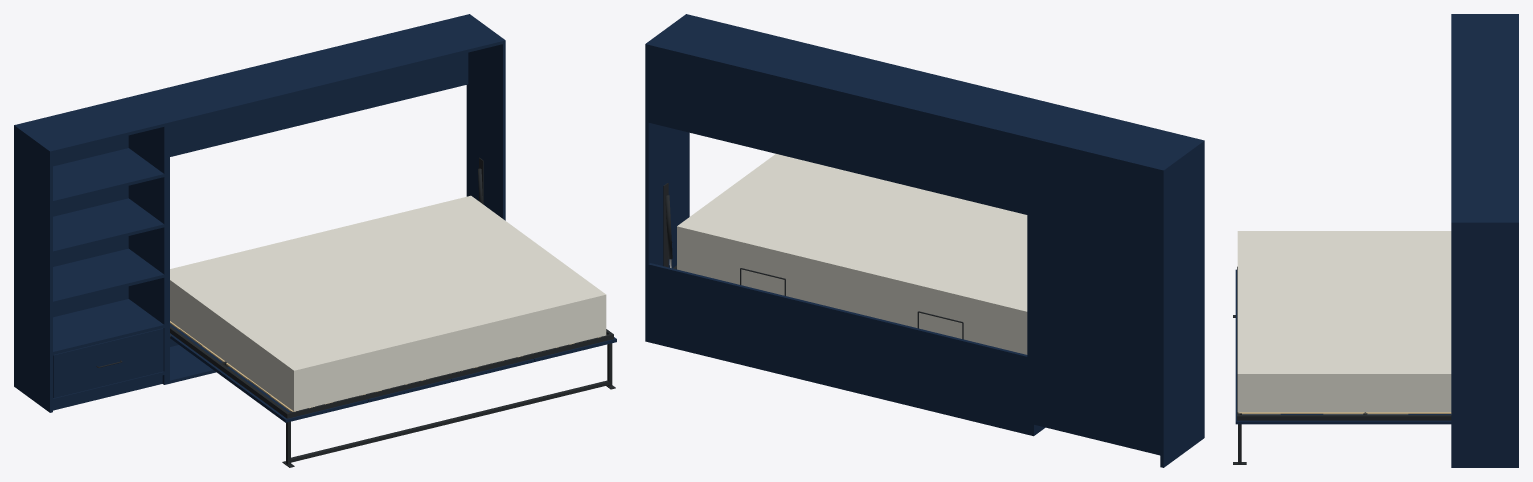
File: queen-horizontal-open.glb
3 renders of one model, left to right at view 1: azimuth 30°, elevation 25°; view 2: azimuth 150°, elevation 25°; view 3: azimuth 270°, elevation 25°, orthographic. The views are drawn at different scales.
Visible parts, largest first — view 1: 03 Queen mattress | 60 x 80 x 10 | toggle visibility:1, =>[0:1:1:13], =>[0:1:1:4], 06 Bottom drawer | plywood box | closed:1_3f93c9, Steel frame, 40 slats and retainers | REPRESENTATIVE:1_47663, =>[0:1:1:9], 04 Folding leg and foot bar | rotate Leg fold joint:1; view 2: =>[0:1:1:4], =>[0:1:1:13], 03 Queen mattress | 60 x 80 x 10 | toggle visibility:1; view 3: 03 Queen mattress | 60 x 80 x 10 | toggle visibility:1, =>[0:1:1:4], =>[0:1:1:13], =>[0:1:1:9], Steel frame, 40 slats and retainers | REPRESENTATIVE:1_47663, Steel frame, 40 slats and retainers | REPRESENTATIVE:1_58b81.
Boxes of the visible parts, x1,y1,x2,y2 form: 03 Queen mattress | 60 x 80 x 10 | toggle visibility:1: [170, 195, 606, 411]; =>[0:1:1:13]: [14, 96, 167, 412]; =>[0:1:1:4]: [131, 14, 505, 384]; 06 Bottom drawer | plywood box | closed:1_3f93c9: [53, 328, 163, 398]; Steel frame, 40 slats and retainers | REPRESENTATIVE:1_47663: [170, 326, 613, 418]; =>[0:1:1:9]: [170, 323, 616, 422]; 04 Folding leg and foot bar | rotate Leg fold joint:1: [282, 343, 615, 467]; =>[0:1:1:4]: [645, 14, 1070, 435]; =>[0:1:1:13]: [1030, 108, 1204, 467]; 03 Queen mattress | 60 x 80 x 10 | toggle visibility:1: [677, 154, 1027, 354]; 03 Queen mattress | 60 x 80 x 10 | toggle visibility:1: [1237, 231, 1451, 412]; =>[0:1:1:4]: [1451, 67, 1518, 467]; =>[0:1:1:13]: [1451, 14, 1518, 67]; =>[0:1:1:9]: [1235, 269, 1451, 424]; Steel frame, 40 slats and retainers | REPRESENTATIVE:1_47663: [1237, 266, 1451, 420]; Steel frame, 40 slats and retainers | REPRESENTATIVE:1_58b81: [1238, 412, 1451, 414].
Size of the model in its own units: 2.97 by 1.63 by 1.72.
